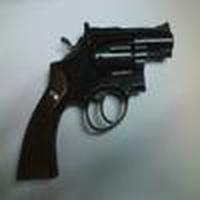gun: (14, 13, 182, 193)
